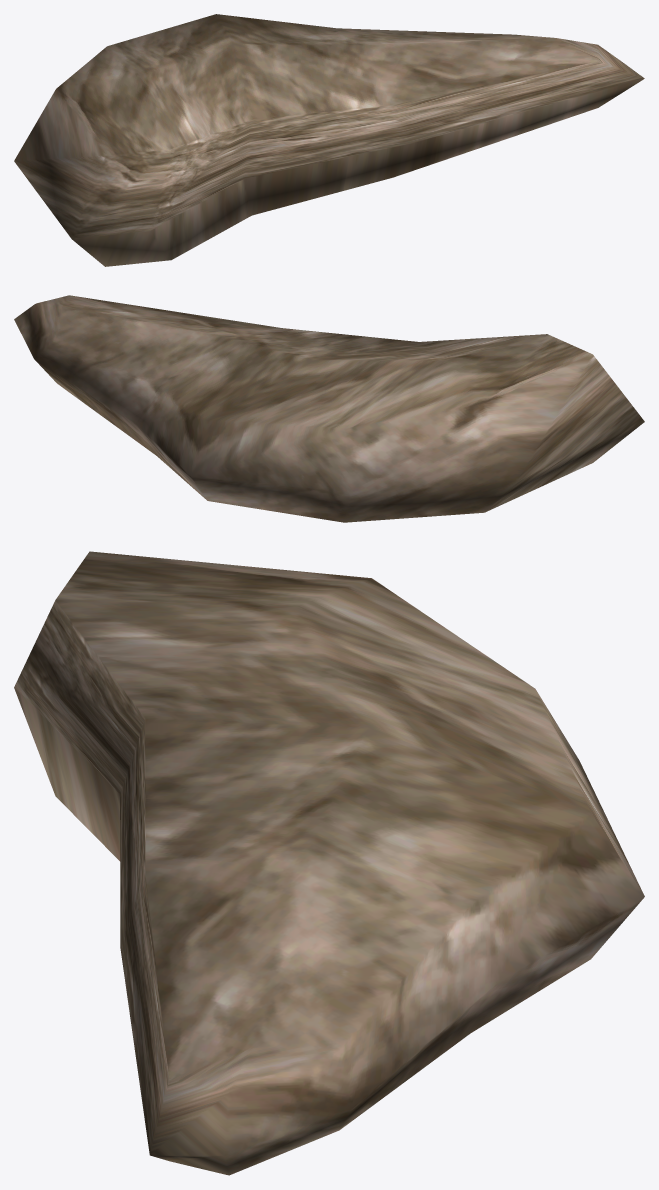
The model's file is OVERHILL_A_01_LINE305.fbx.
The picture shows the model from 3 angles, top to bottom: view 1: azimuth 30°, elevation 25°; view 2: azimuth 150°, elevation 25°; view 3: azimuth 270°, elevation 25°; orthographic projection. The views are drawn at different scales.
Parts seen in each view (by area): view 1: OVERHILL_A_01_LINE305; view 2: OVERHILL_A_01_LINE305; view 3: OVERHILL_A_01_LINE305.
Boxes of the visible parts, left/top/right/bottom form: OVERHILL_A_01_LINE305: left=14, top=14, right=644, bottom=266; OVERHILL_A_01_LINE305: left=14, top=295, right=644, bottom=522; OVERHILL_A_01_LINE305: left=14, top=551, right=644, bottom=1175.
Size of the model in its own units: 62931 by 12546 by 32580.
Materials: 1 (1 with a texture image).
